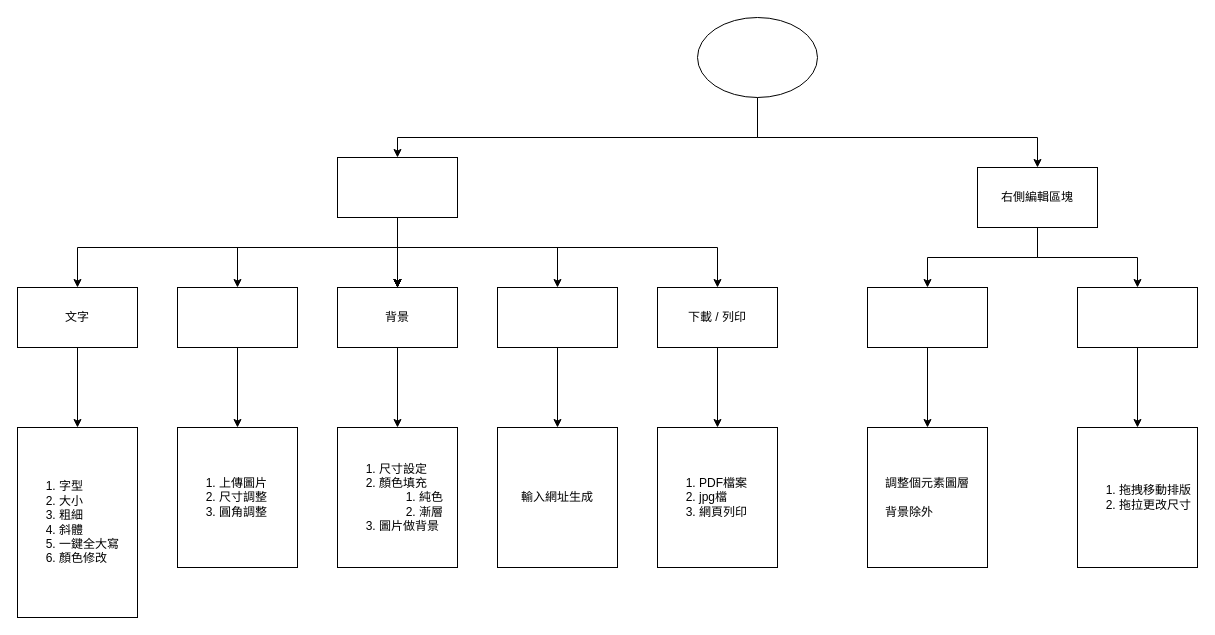
Image size: 1215x635. Some labels were removed from this diagram. The shapes that lost their labels are listed below. From the top down, each one's centre as x and y in pixels, then its label:
At point 757,57: "主頁".
At point 397,187: "左側選單".
At point 237,317: "圖片".
At point 557,317: "QRcode".
At point 927,317: "header".
At point 1137,317: "body".
